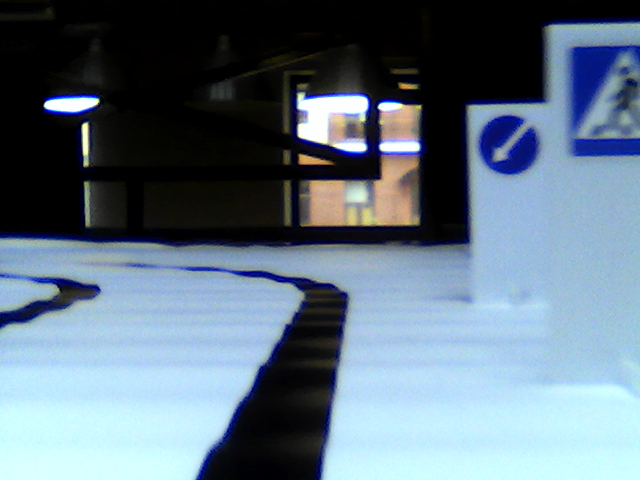pesh: (571, 46, 640, 151)
prep: (480, 115, 539, 172)
